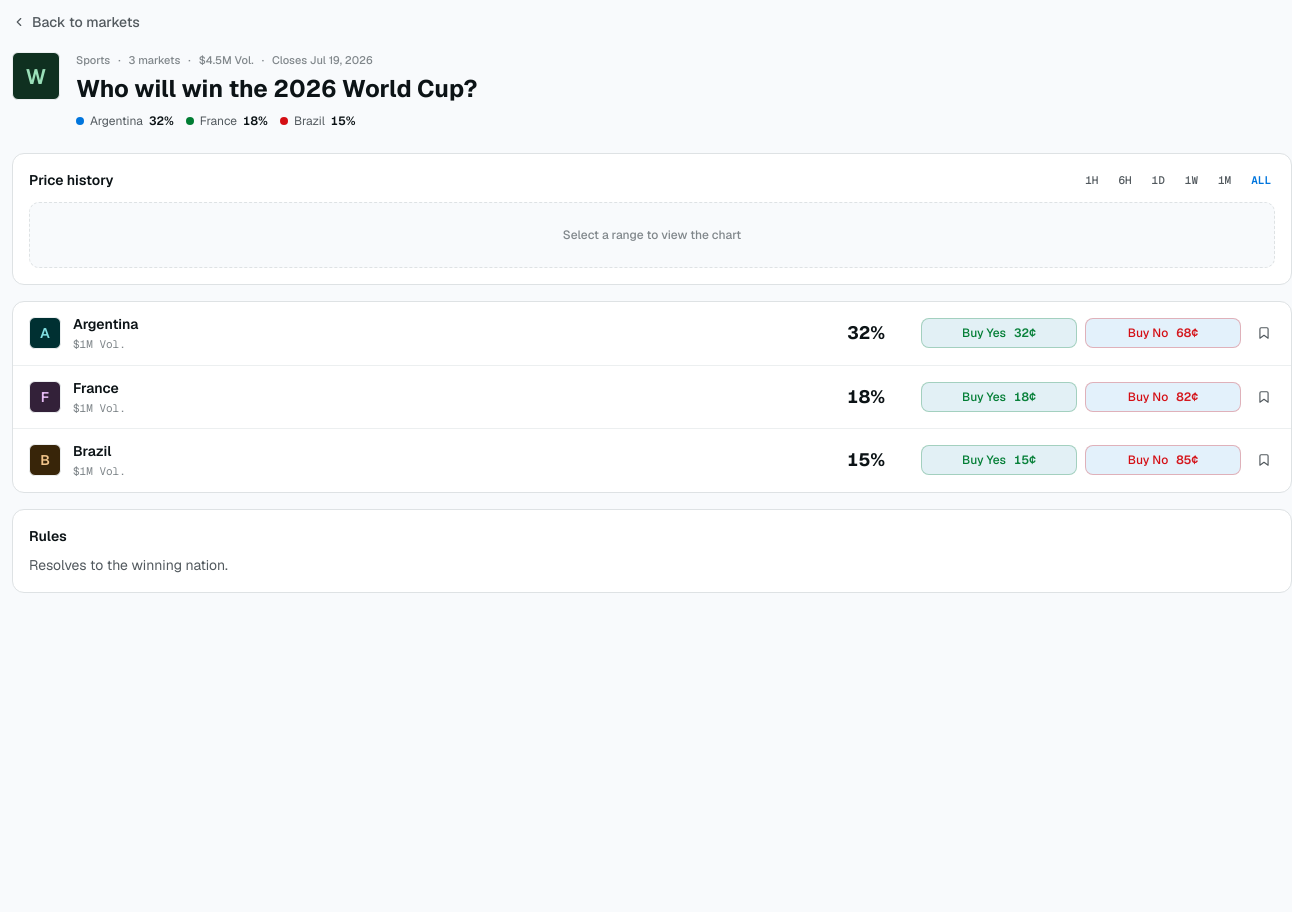
Test: EventDetailPage › opens the chart when a timeframe chip is tapped on mobile (graph opens on chip click)
Expected: the button "Select a range to view the chart" is shown, top-left (29, 202), bottom-right (1275, 268)
Click the radio button labelled "ALL" at coordinates (1261, 180), box top-left (1247, 170), bottom-right (1275, 190)
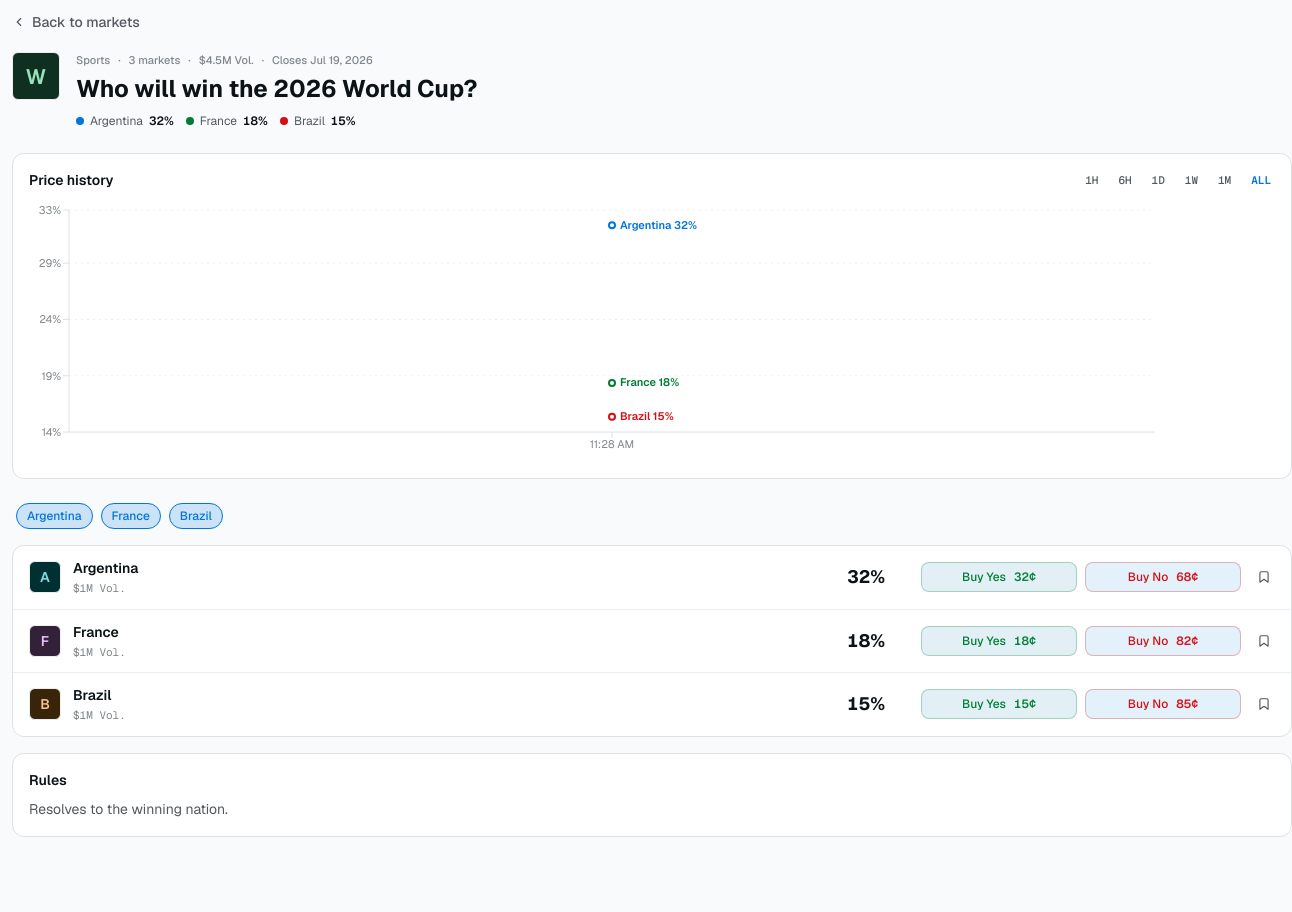
Now the button "Select a range to view the chart" is gone
